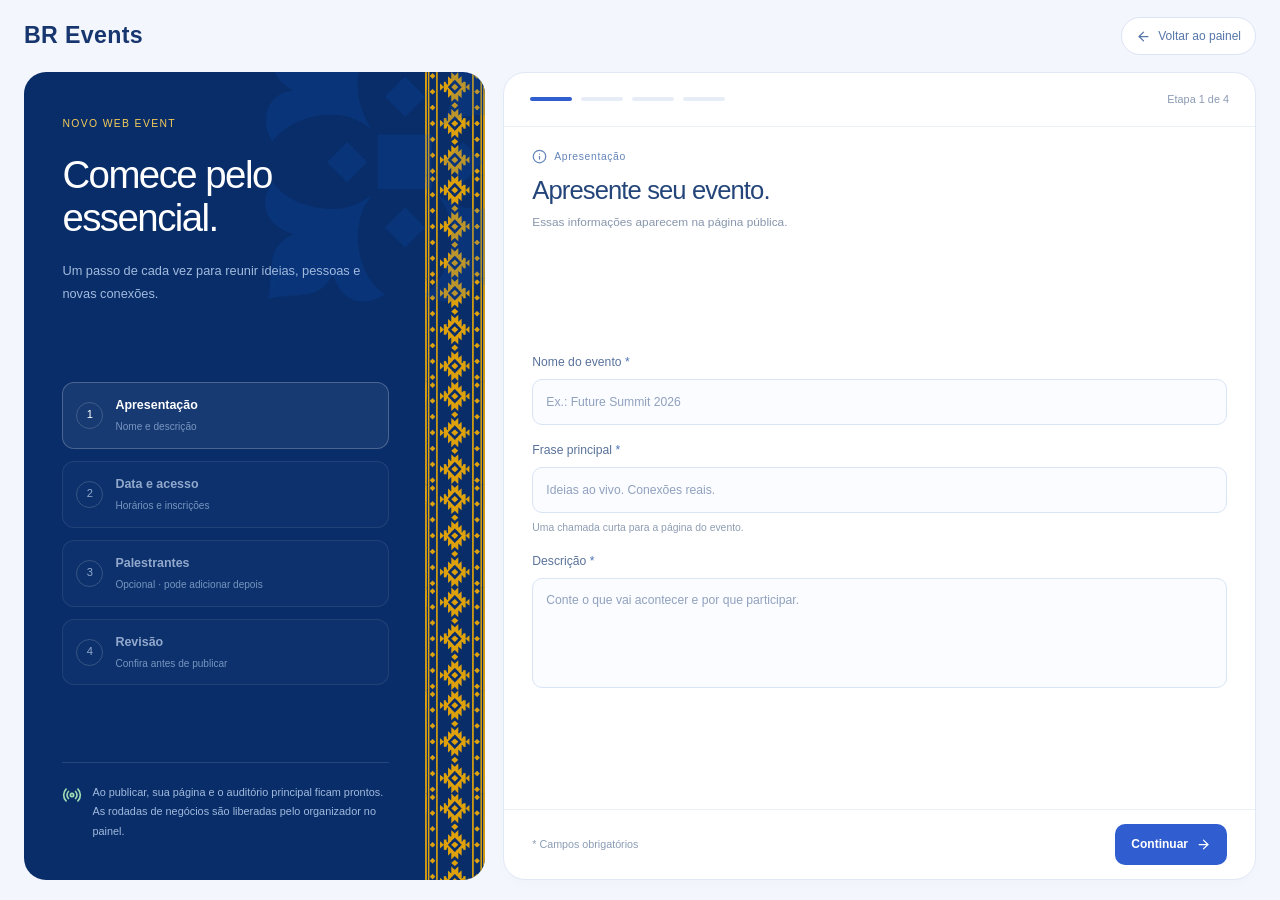
cadastro de evento por etapas › não avança com campos vazios e preserva valores ao voltar
Submit the form named "Criar evento", box [504,127,1255,879]
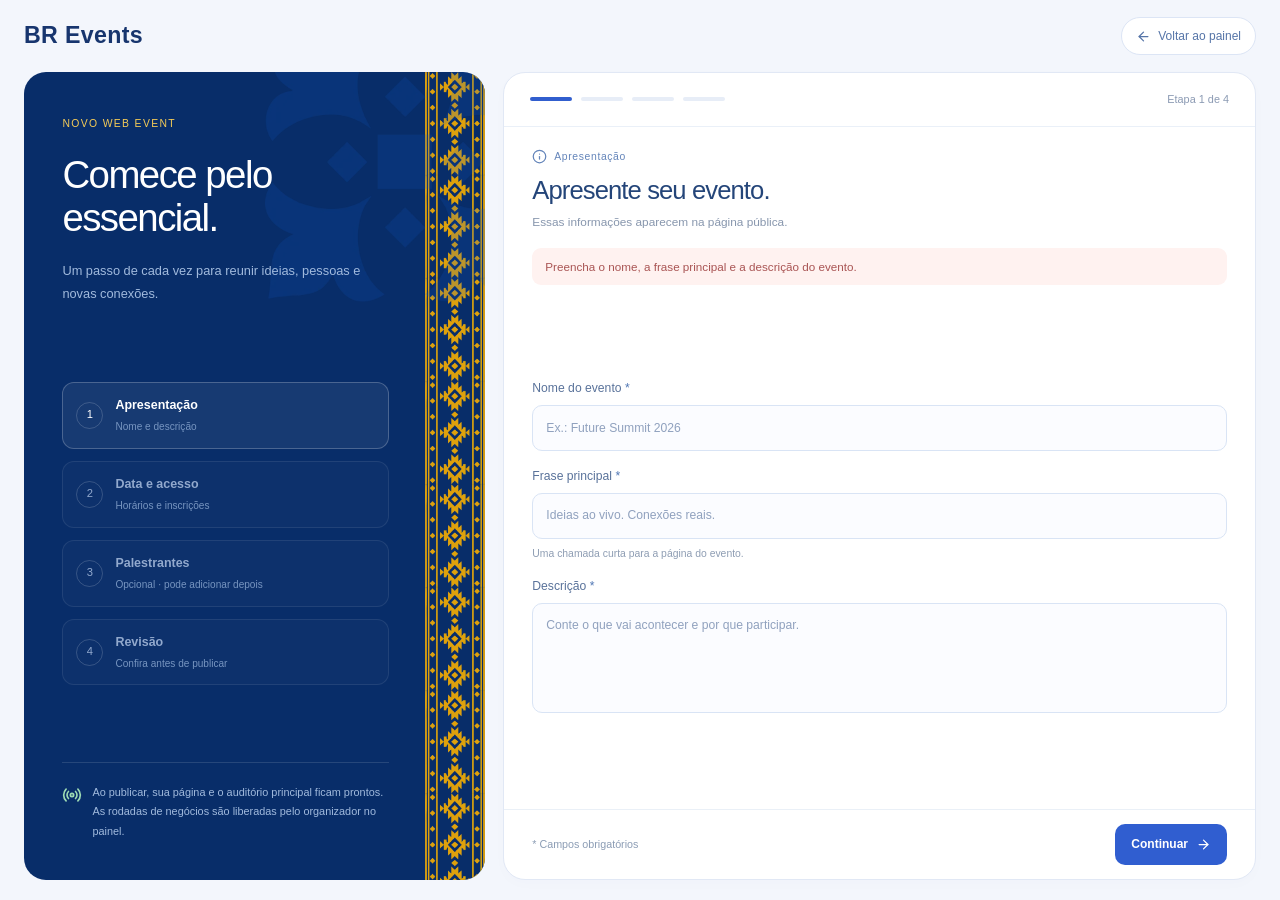
expect the message "Preencha o nome, a frase principal e a descrição do evento." is shown: met, box [532,248,1227,285]
Type "Evento novo" into the field labelled "Nome do evento *" at point(880, 428), box [532,405,1227,451]
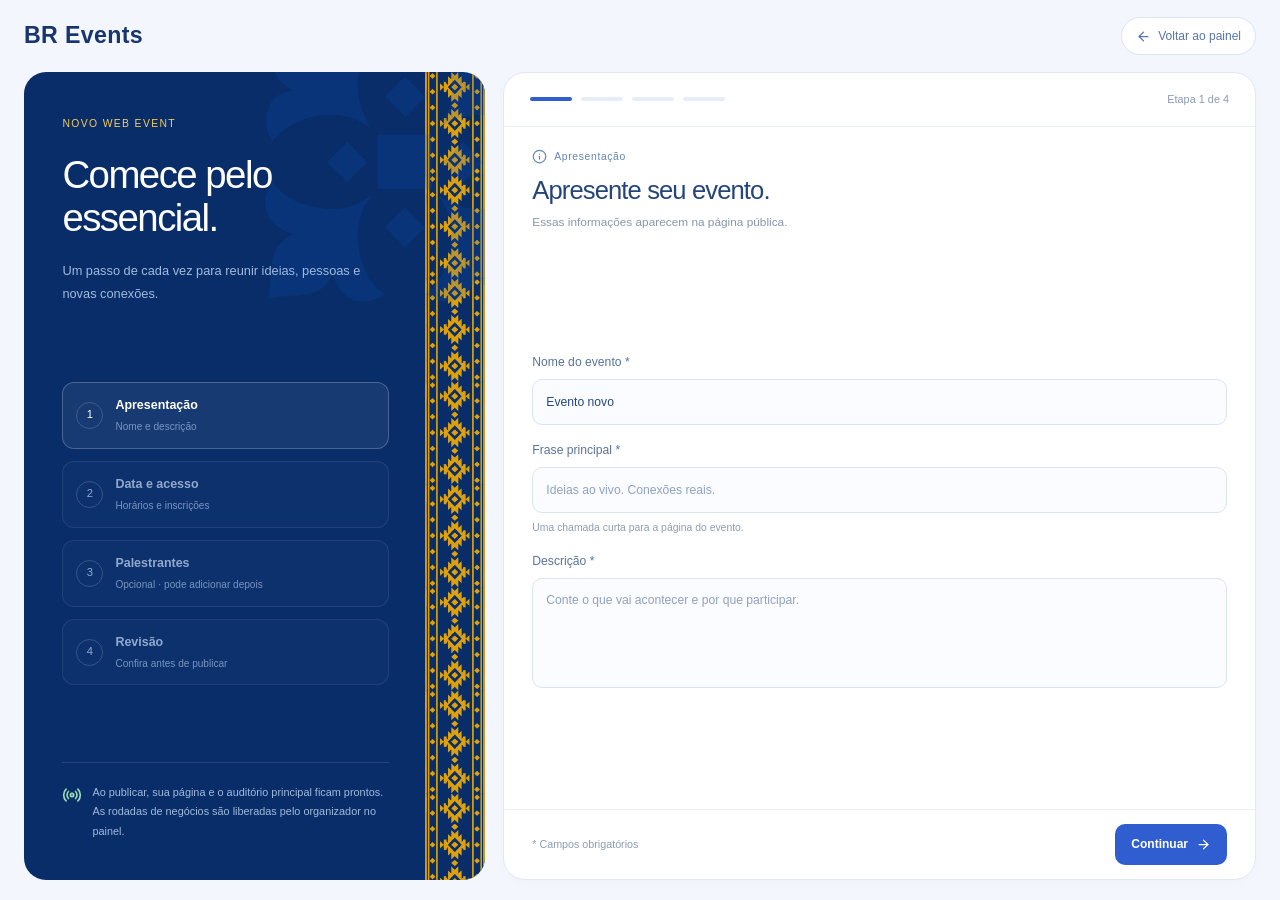
Type "Ideias e conexões" into the field labelled "Frase principal * Uma chamada curta para a página do evento." at point(880, 490), box [532,467,1227,513]
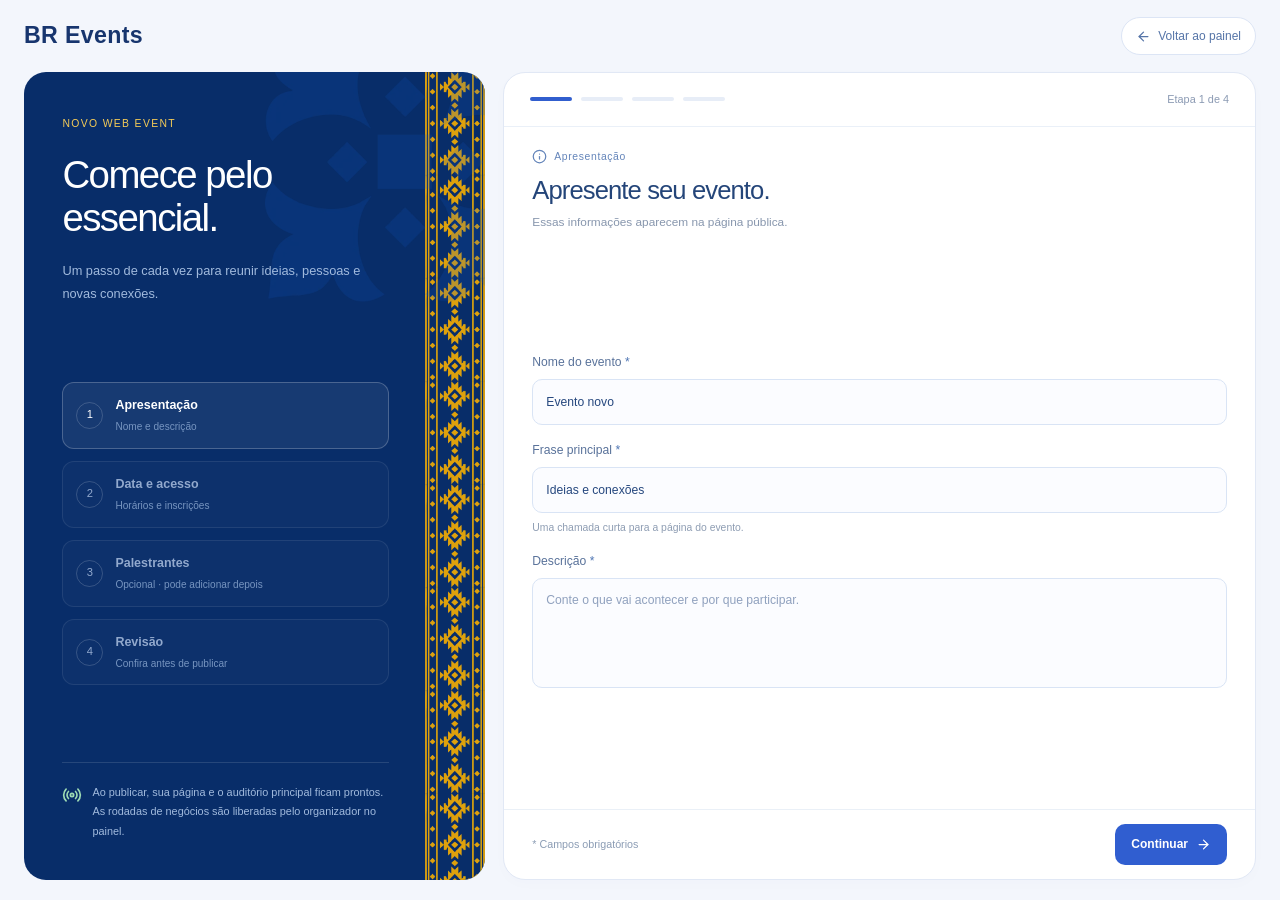
Type "Um encontro online." into the text box labelled "Descrição *" at point(880, 632), box [532,578,1227,688]
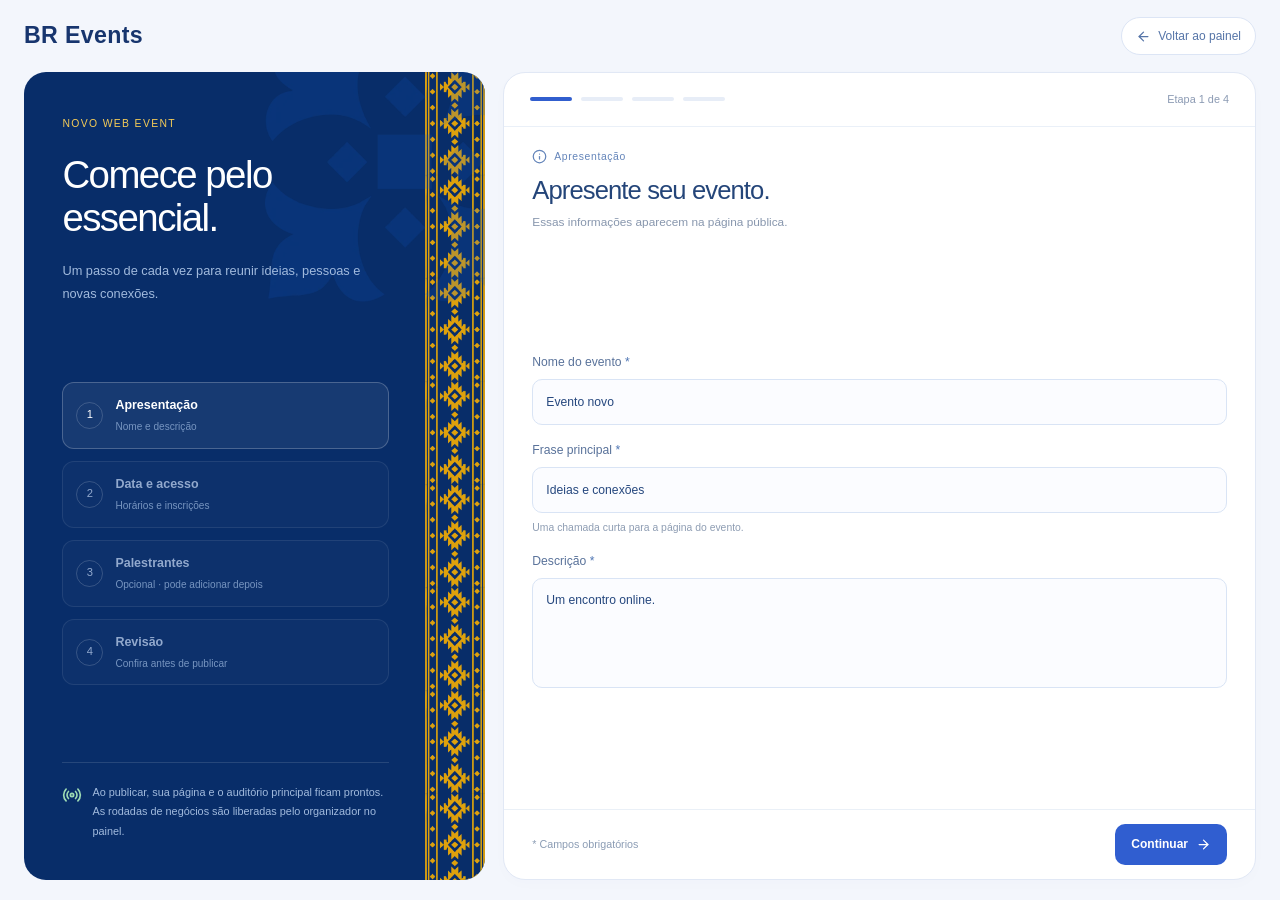
Submit the form named "Criar evento", box [504,127,1255,879]
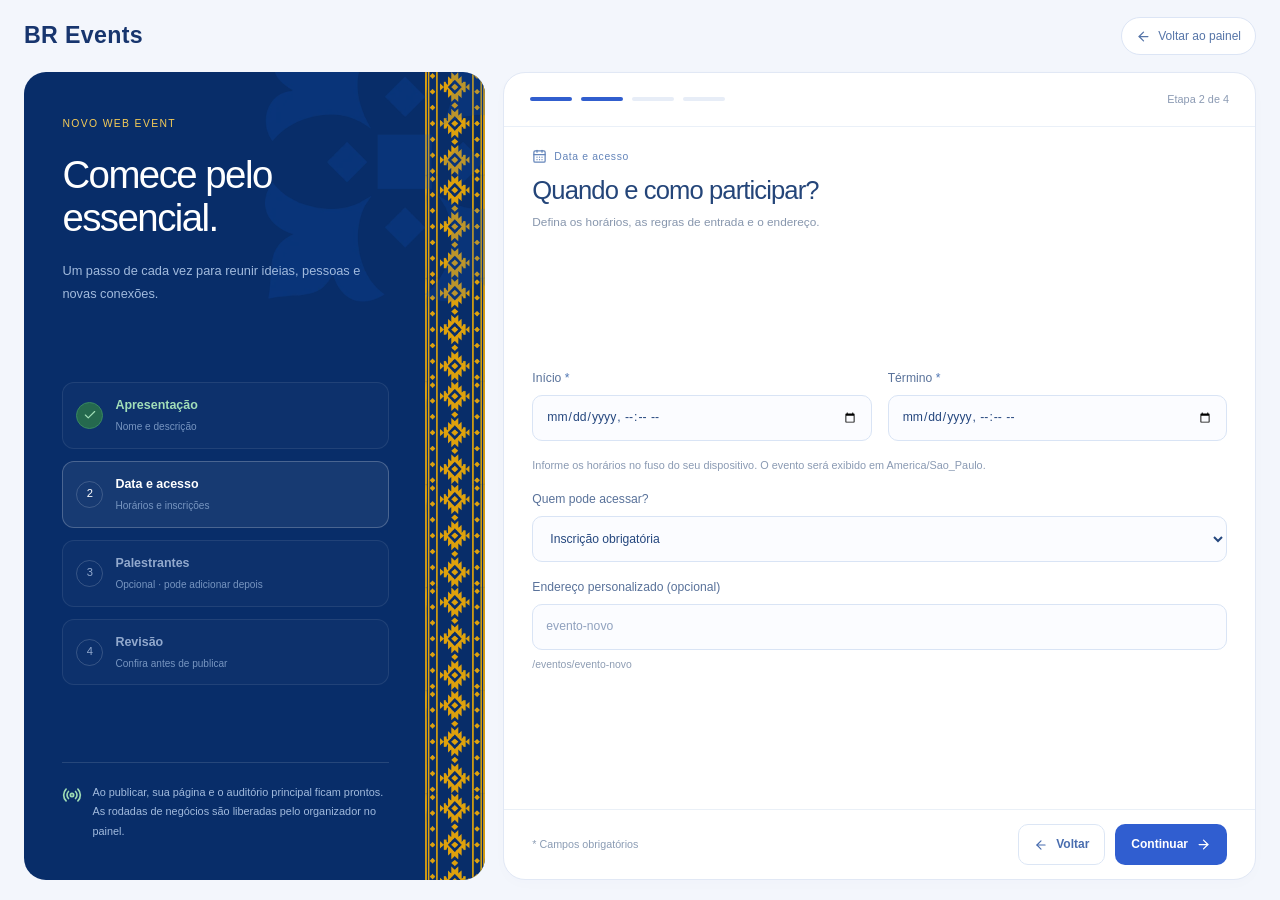
expect the text "Etapa 2 de 4" is shown: met, box [1167,91,1229,108]
Click the button "Voltar" at point(1062, 845), box [1018,824,1105,865]
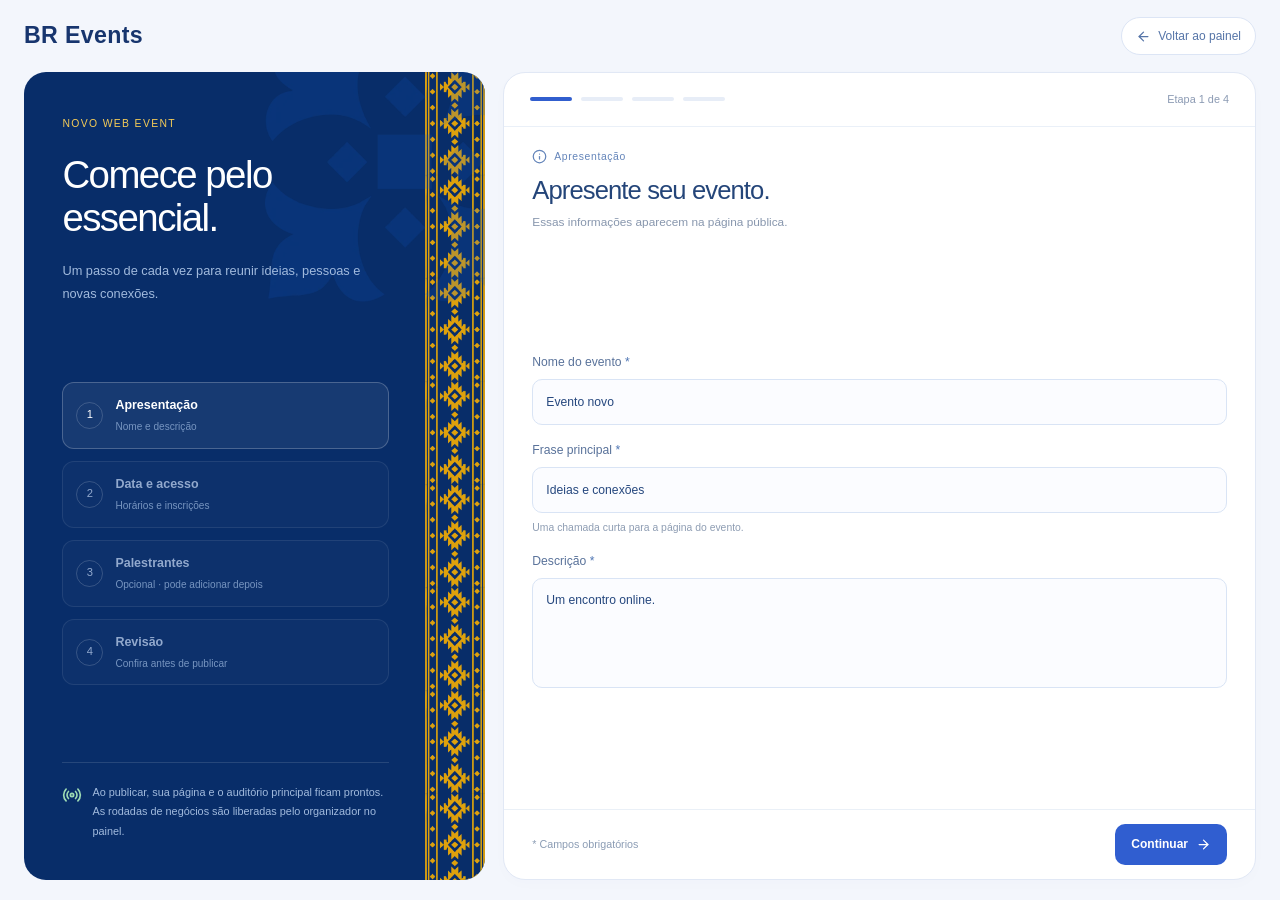
expect the field labelled "Nome do evento *" holds "Evento novo": met, box [532,379,1227,425]
expect the text box labelled "Descrição *" holds "Um encontro online.": met, box [532,578,1227,688]
